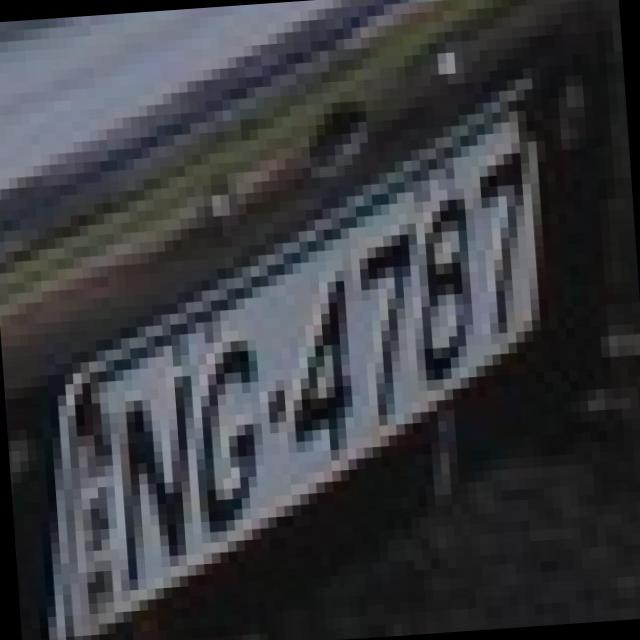LicensePlate: (18, 57, 600, 640)
